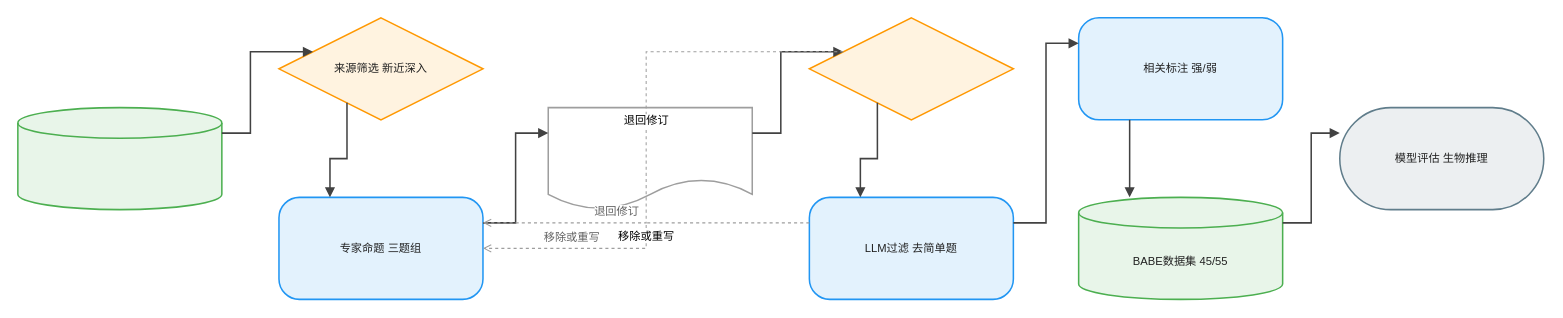
Image size: 1563x318. Some labels were removed from this diagram. The shapes that lost their labels are listed below. From the top down, each one's box as (x1, y1, x2, y2) in pixels, then its label:
(808, 17, 1014, 120): 资深复审 忠实性
(17, 106, 222, 210): 前沿文献 12子领域
(547, 106, 753, 210): 问题三元组 自含提示
